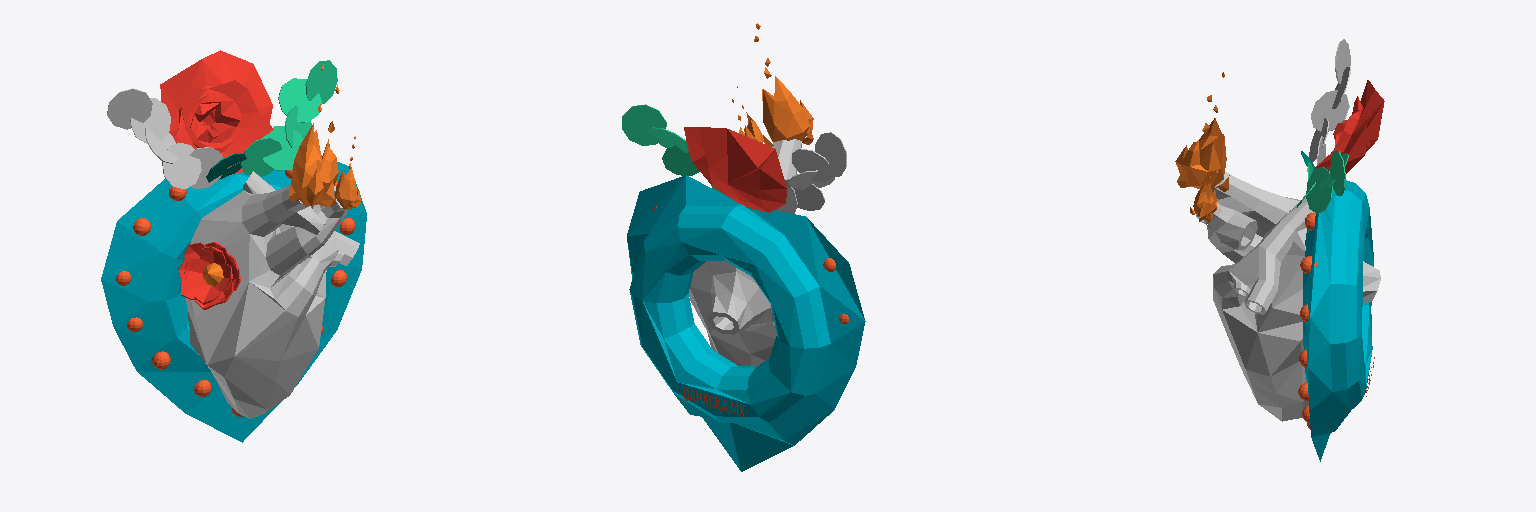
Rendered from Oahack3VR.obj.
3 renders of one model, left to right at view 1: azimuth 30°, elevation 25°; view 2: azimuth 150°, elevation 25°; view 3: azimuth 270°, elevation 25°, orthographic.
Parts seen in each view (by area): view 1: Heart, mesh[number redacted].001, mesh[number redacted].001, fuego, pCube13, mesh[number redacted].001, mesh[number redacted].001, mesh[number redacted].001, mesh[number redacted].001, mesh[number redacted].001, mesh[number redacted].001, mesh[number redacted].001 (+3 smaller); view 2: mesh[number redacted].001, Heart, mesh[number redacted].001, fuego, mesh[number redacted].001, mesh[number redacted].001, mesh[number redacted].001, mesh[number redacted].001, mesh[number redacted].001; view 3: Heart, mesh[number redacted].001, fuego, mesh[number redacted].001, mesh[number redacted].001, mesh[number redacted].001, mesh[number redacted].001.
Boxes of the visible parts, x1=… form: Heart: x1=185, y1=171, x2=359, y2=418; mesh[number redacted].001: x1=101, y1=155, x2=366, y2=442; mesh[number redacted].001: x1=160, y1=50, x2=273, y2=173; fuego: x1=289, y1=64, x2=360, y2=209; pCube13: x1=178, y1=242, x2=240, y2=309; mesh[number redacted].001: x1=107, y1=88, x2=152, y2=129; mesh[number redacted].001: x1=162, y1=142, x2=201, y2=189; mesh[number redacted].001: x1=278, y1=78, x2=321, y2=122; mesh[number redacted].001: x1=305, y1=60, x2=337, y2=103; mesh[number redacted].001: x1=262, y1=126, x2=302, y2=170; mesh[number redacted].001: x1=241, y1=137, x2=281, y2=176; mesh[number redacted].001: x1=130, y1=98, x2=170, y2=143; mesh[number redacted].001: x1=627, y1=175, x2=865, y2=471; Heart: x1=689, y1=139, x2=801, y2=365; mesh[number redacted].001: x1=684, y1=127, x2=786, y2=212; fuego: x1=732, y1=23, x2=813, y2=146; mesh[number redacted].001: x1=622, y1=104, x2=666, y2=145; mesh[number redacted].001: x1=815, y1=132, x2=846, y2=177; mesh[number redacted].001: x1=792, y1=148, x2=831, y2=182; mesh[number redacted].001: x1=662, y1=145, x2=699, y2=175; mesh[number redacted].001: x1=785, y1=179, x2=824, y2=210; Heart: x1=1196, y1=172, x2=1380, y2=421; mesh[number redacted].001: x1=1303, y1=151, x2=1373, y2=461; fuego: x1=1175, y1=72, x2=1229, y2=222; mesh[number redacted].001: x1=1315, y1=80, x2=1384, y2=173; mesh[number redacted].001: x1=1311, y1=90, x2=1349, y2=131; mesh[number redacted].001: x1=1306, y1=167, x2=1332, y2=213; mesh[number redacted].001: x1=1330, y1=151, x2=1345, y2=195.
Bounding box in the file's own units: 1.82 × 2.8 × 1.31.